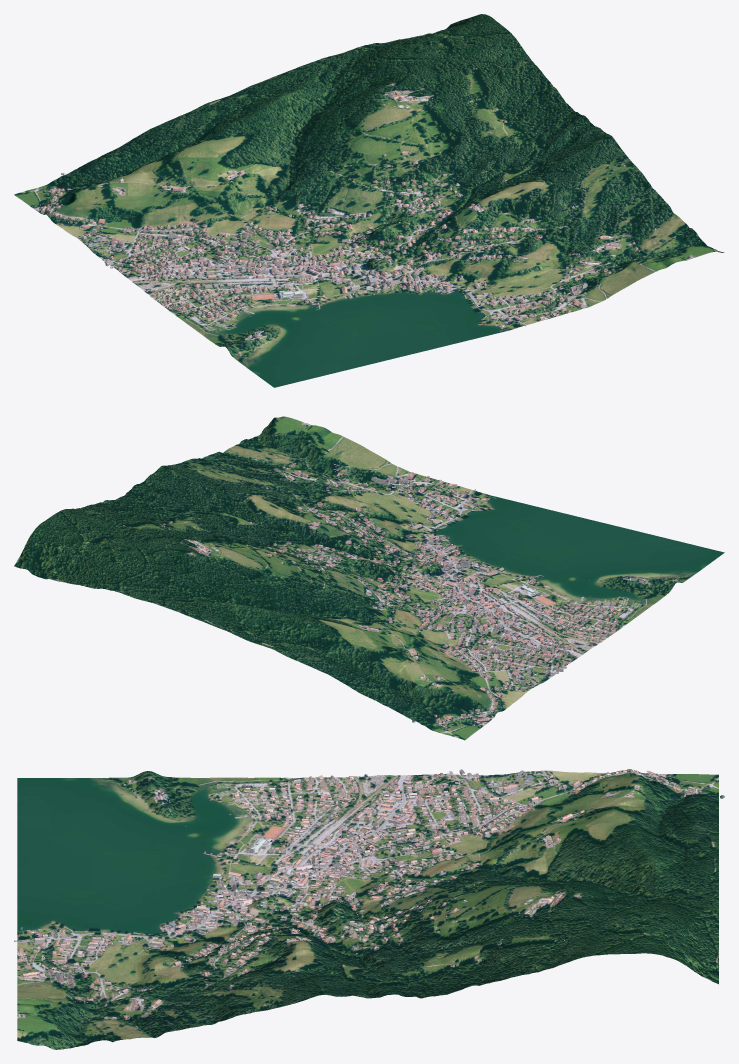
The model's file is asset.glb.
3 views of the same model, one above another, from view 1: azimuth 30°, elevation 25°; view 2: azimuth 150°, elevation 25°; view 3: azimuth 270°, elevation 25° (orthographic). The views are drawn at different scales.
Parts seen in each view (by area): view 1: Schliersee_DGM_10m, Gebaeude_Daecher, Gebauede_Waende; view 2: Schliersee_DGM_10m, Gebaeude_Daecher, Gebauede_Waende; view 3: Schliersee_DGM_10m, Gebaeude_Daecher, Gebauede_Waende.
Part boxes in pixels (bbox=[...]): Schliersee_DGM_10m: bbox=[14, 14, 724, 387]; Gebaeude_Daecher: bbox=[32, 67, 691, 355]; Gebauede_Waende: bbox=[33, 68, 692, 355]; Schliersee_DGM_10m: bbox=[14, 416, 724, 740]; Gebaeude_Daecher: bbox=[122, 423, 677, 727]; Gebauede_Waende: bbox=[124, 424, 677, 728]; Schliersee_DGM_10m: bbox=[17, 769, 718, 1049]; Gebaeude_Daecher: bbox=[14, 769, 724, 1037]; Gebauede_Waende: bbox=[14, 770, 724, 1037].
Bounding box in the file's own units: 2005 × 473 × 2016.
7 materials, 3 textured.
